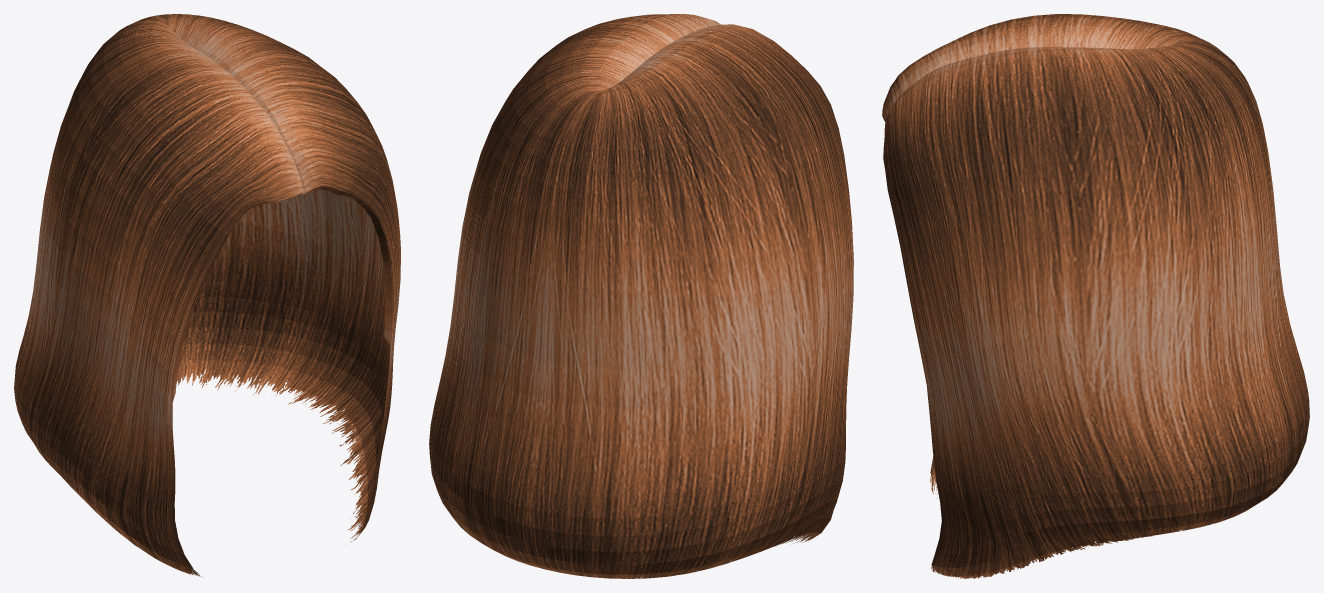
Rendered from bob_curled_under.obj.
3 views of the same model, side by side, from view 1: azimuth 30°, elevation 25°; view 2: azimuth 150°, elevation 25°; view 3: azimuth 270°, elevation 25° (orthographic). The views are drawn at different scales.
Bounding box in the file's own units: 1.77 × 2.45 × 1.89.
1 material, 1 textured.
